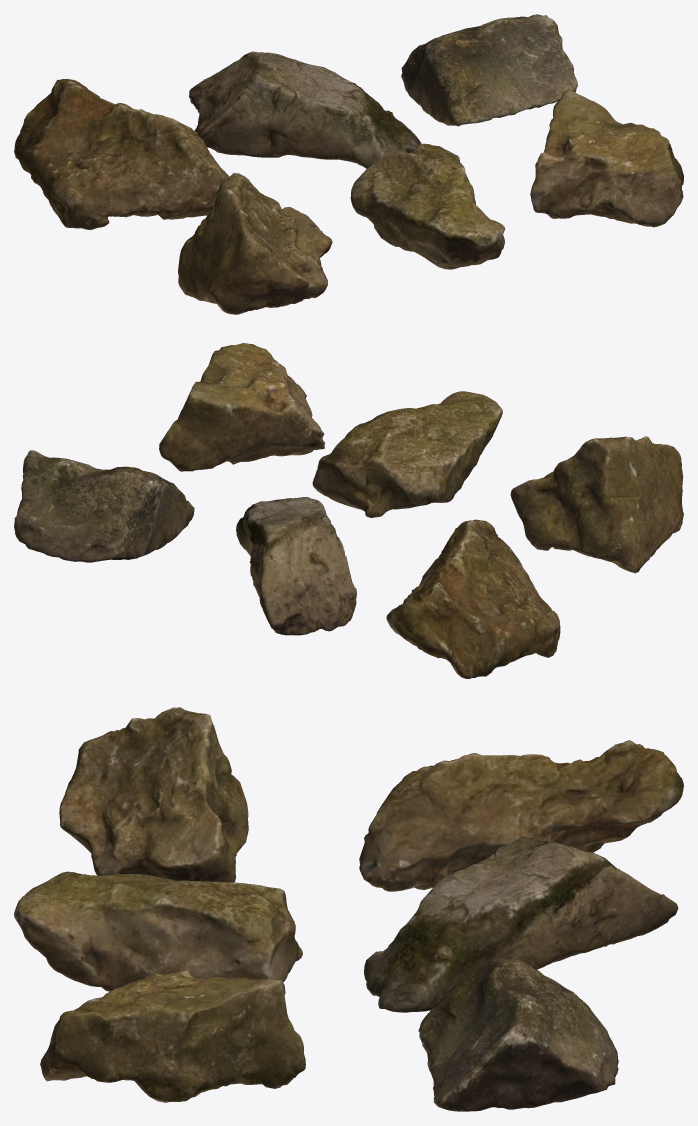
File: rubble-rock-moss.glb
3 views of the same model, one above another, from view 1: azimuth 30°, elevation 25°; view 2: azimuth 150°, elevation 25°; view 3: azimuth 270°, elevation 25° (orthographic). The views are drawn at different scales.
Visible parts, largest first — view 1: rock_moss_set_01_rock01; view 2: rock_moss_set_01_rock01; view 3: rock_moss_set_01_rock01.
Boxes of the visible parts, x1=… form: rock_moss_set_01_rock01: x1=14, y1=14, x2=683, y2=314; rock_moss_set_01_rock01: x1=14, y1=343, x2=683, y2=678; rock_moss_set_01_rock01: x1=14, y1=707, x2=683, y2=1111.
Size of the model in its own units: 8 by 1.77 by 6.95.
1 material, 1 textured.
